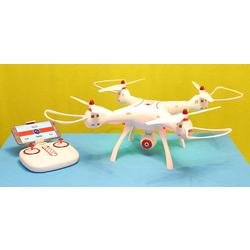drone: (44, 76, 244, 171)
